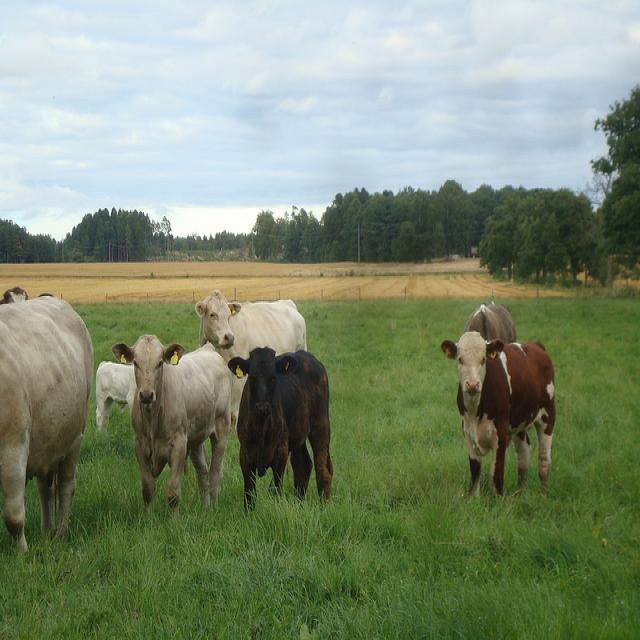cow: (0, 293, 93, 556), (110, 332, 231, 520), (438, 329, 556, 500), (227, 346, 330, 514), (192, 290, 306, 426), (95, 359, 137, 425), (464, 297, 515, 340)
